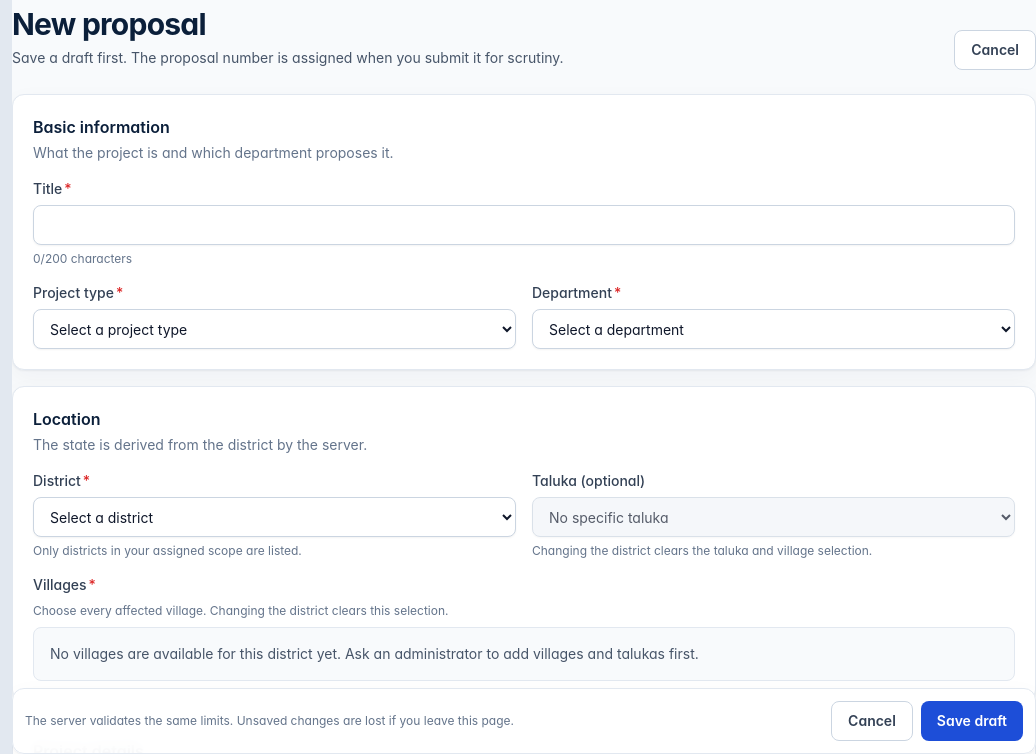
Test: ProposalFormPage › shows field errors before sending an incomplete draft
Check: the heading "New proposal" is shown, box 12,6 -> 206,42
Click the button "Save draft" at (972, 721), box 921,701 -> 1023,741
(page scrolled)
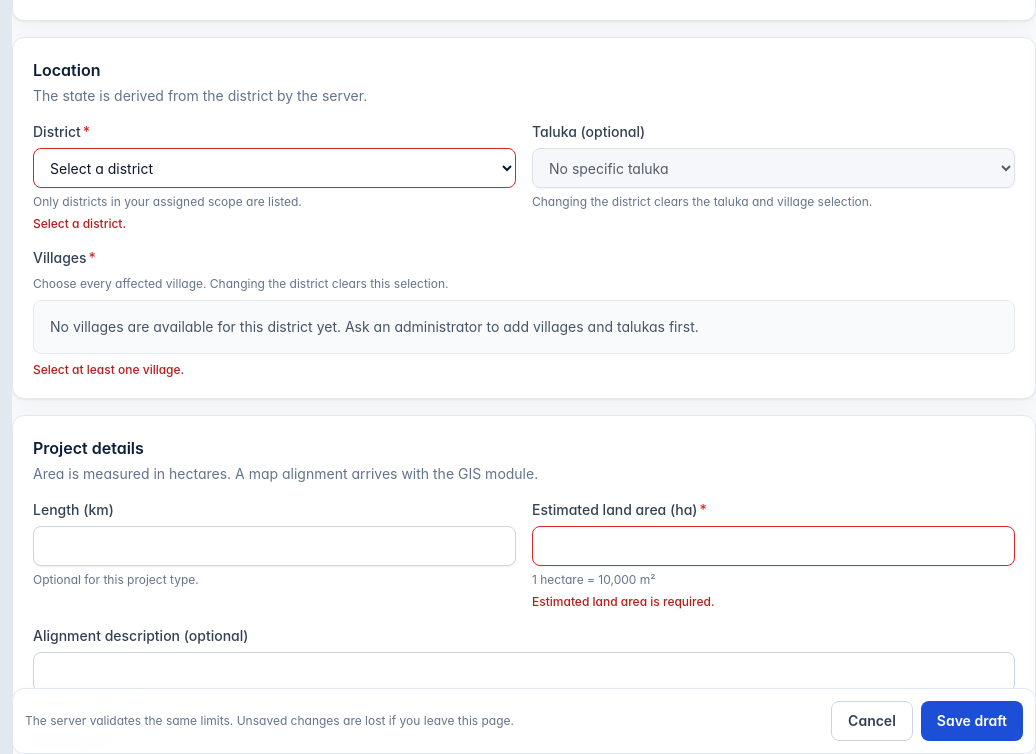
Check: the text "Select a district." is shown, box 33,216 -> 126,231
Check: the text "Select at least one village." is shown, box 33,362 -> 184,377
